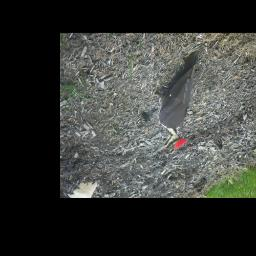Woodpecker: (149, 51, 203, 155)
